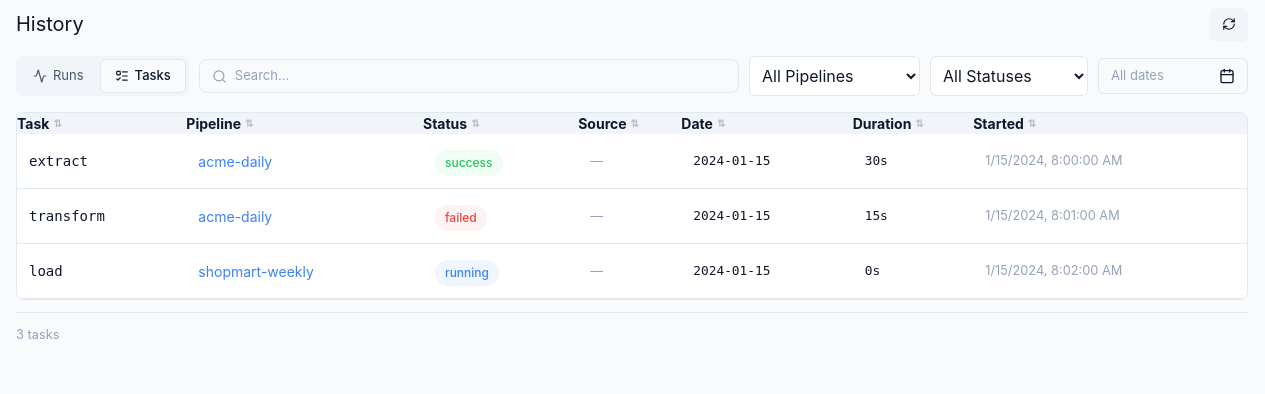
Test case: AllTasksView › filtering › updates store when status filter changed
Select "Failed" in the dropdown showing "All Statuses" at (1009, 76), box [930,56,1088,96]
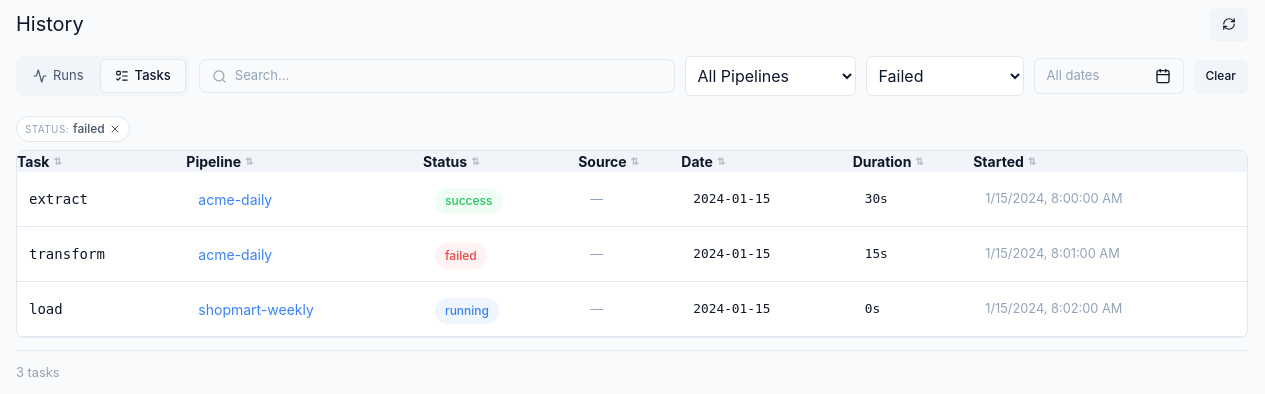
Check: the 1st text "failed" is shown, box [73,120,105,138]
